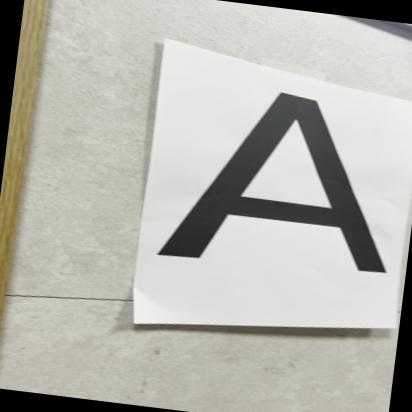seat: (141, 72, 412, 294)
